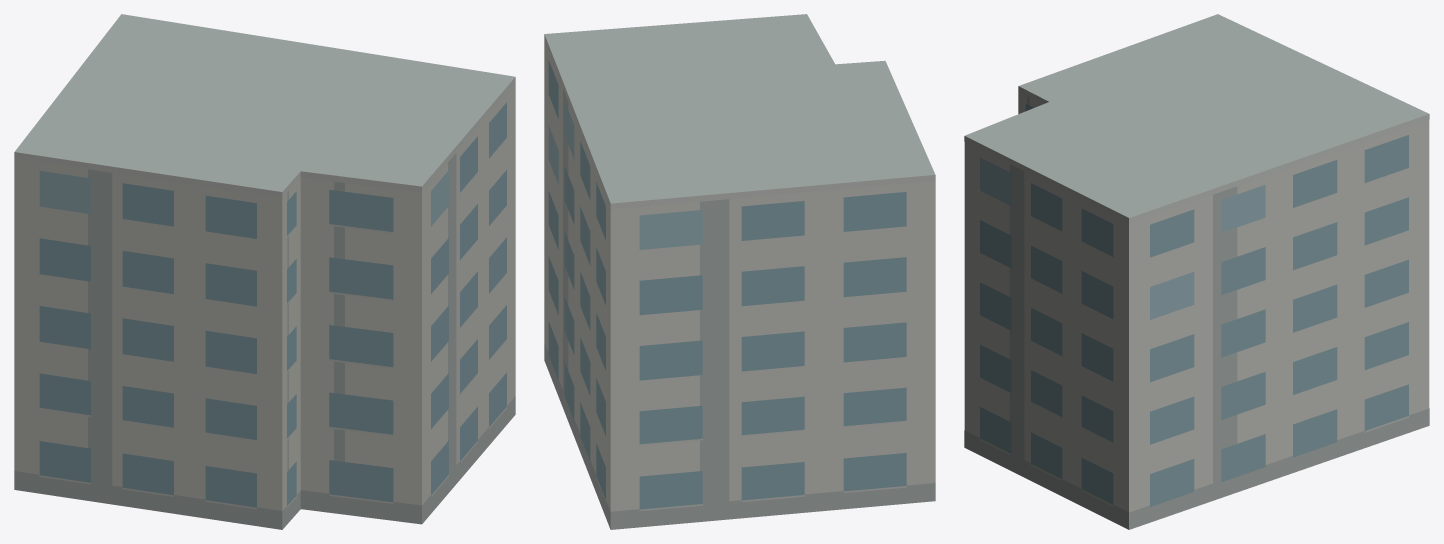
Rendered from survey-upis-32629979.glb.
3 views of the same model, side by side, from view 1: azimuth 30°, elevation 25°; view 2: azimuth 150°, elevation 25°; view 3: azimuth 270°, elevation 25° (orthographic). The views are drawn at different scales.
Visible parts, largest first — view 1: survey-upis-32629979.tmp; view 2: survey-upis-32629979.tmp; view 3: survey-upis-32629979.tmp.
Boxes of the visible parts, box(x1,y1,x2,y2) form: survey-upis-32629979.tmp: box(14, 14, 515, 529); survey-upis-32629979.tmp: box(544, 14, 935, 529); survey-upis-32629979.tmp: box(964, 14, 1429, 529).
Bounding box in the file's own units: 18.39 × 13.1 × 17.71.
